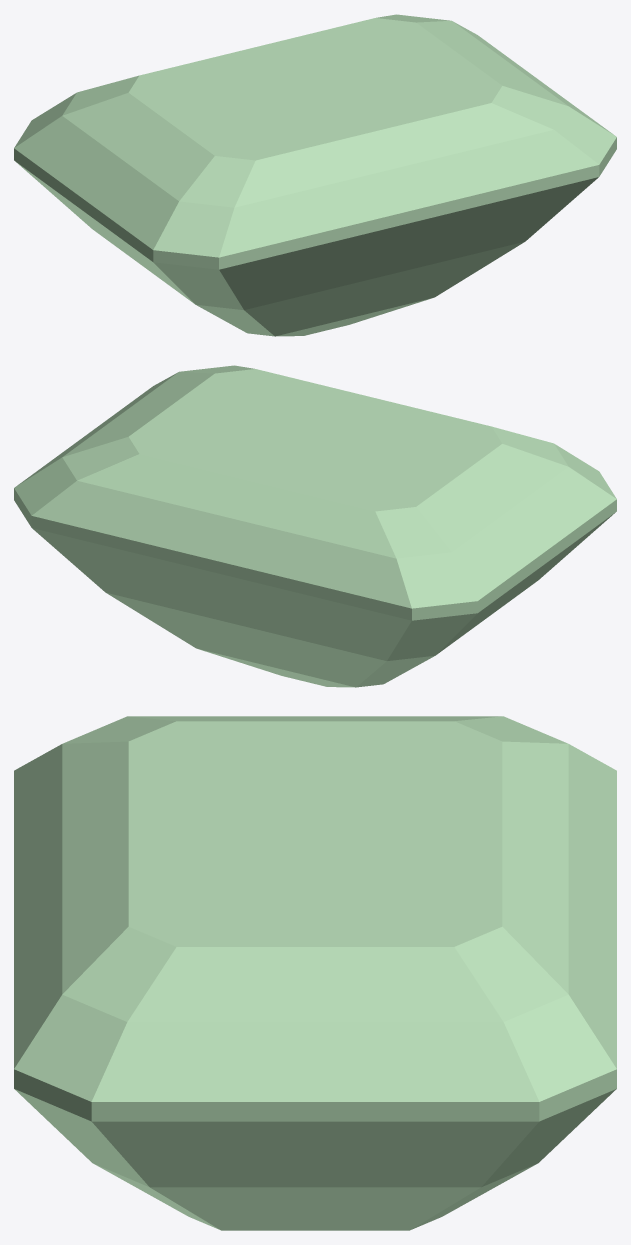
File: hiddenite.glb
3 views of the same model, one above another, from view 1: azimuth 30°, elevation 25°; view 2: azimuth 150°, elevation 25°; view 3: azimuth 270°, elevation 25° (orthographic). The views are drawn at different scales.
Visible parts, largest first — view 1: hiddenite; view 2: hiddenite; view 3: hiddenite.
Part boxes in pixels (x1,y1,x2,y2): hiddenite: [14, 14, 616, 336]; hiddenite: [14, 365, 616, 687]; hiddenite: [14, 716, 616, 1230].
Size of the model in its own units: 0.25 by 0.12 by 0.175.
